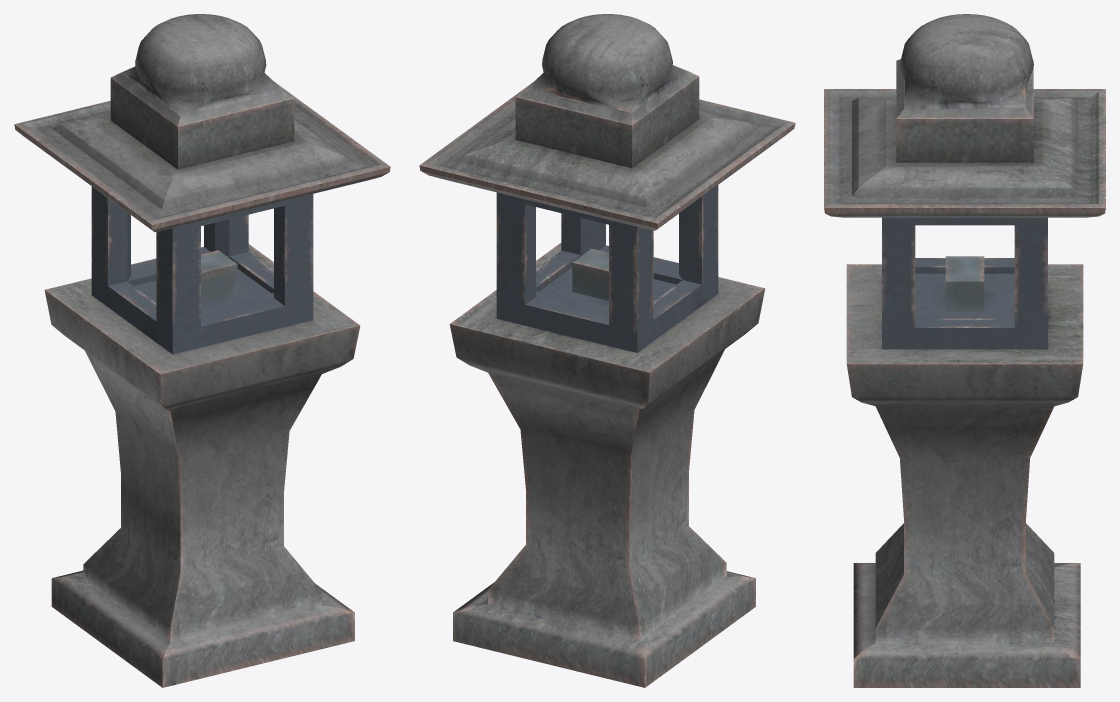
Rendered from lantern.glb.
The picture shows the model from 3 angles, left to right: view 1: azimuth 30°, elevation 25°; view 2: azimuth 150°, elevation 25°; view 3: azimuth 270°, elevation 25°; orthographic projection. The views are drawn at different scales.
Bounding box in the file's own units: 0.4179 × 1 × 0.4179.
Materials: 2 (2 with a texture image).
